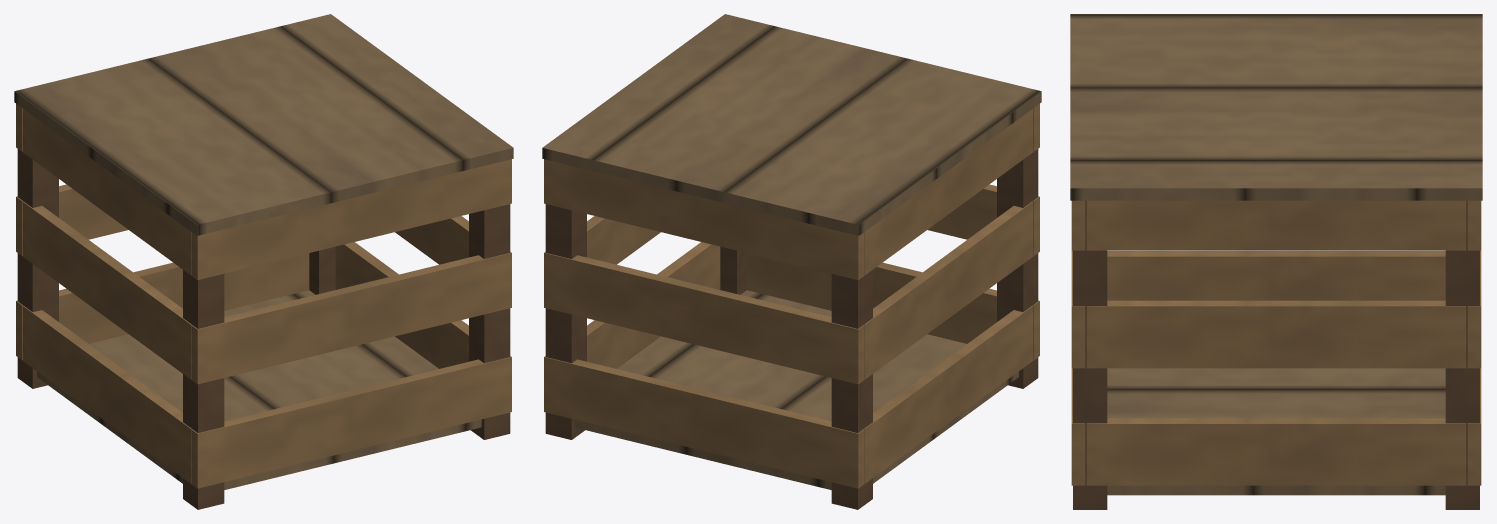
File: crate_cs.obj
The picture shows the model from 3 angles, left to right: view 1: azimuth 30°, elevation 25°; view 2: azimuth 150°, elevation 25°; view 3: azimuth 270°, elevation 25°; orthographic projection. The views are drawn at different scales.
Visible parts, largest first — view 1: crate_cs; view 2: crate_cs; view 3: crate_cs.
Boxes of the visible parts, x1,y1,x2,y2 form: crate_cs: (14,14,513,509); crate_cs: (542,14,1041,509); crate_cs: (1070,14,1482,509).
Size of the model in its own units: 0.604 by 0.522 by 0.604.
Materials: 1 (1 with a texture image).
